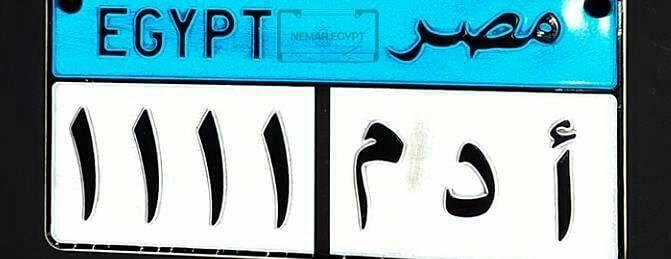1: (252, 105, 297, 230), (193, 105, 232, 227), (133, 108, 168, 218), (70, 107, 100, 220)
alif: (537, 117, 584, 238)
daal: (438, 139, 502, 217)
meem: (342, 114, 413, 233)
